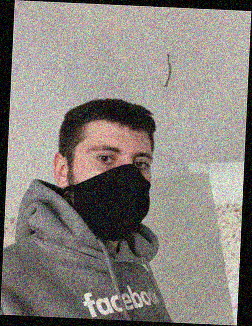with_mask: (72, 133, 151, 241)
